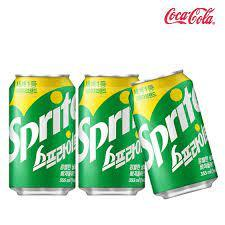sprite: (130, 70, 221, 202), (78, 72, 150, 202), (8, 72, 79, 202)
